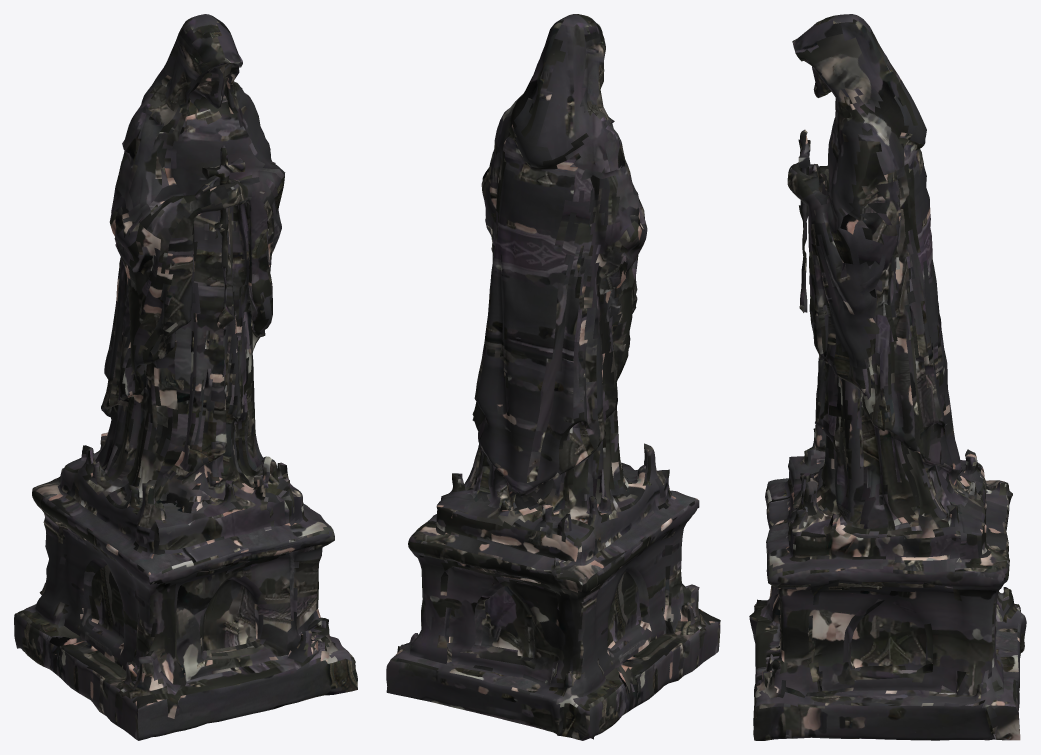
3 views of the same model, side by side, from view 1: azimuth 30°, elevation 25°; view 2: azimuth 150°, elevation 25°; view 3: azimuth 270°, elevation 25° (orthographic). The views are drawn at different scales.
Visible parts, largest first — view 1: tripo_node_01f2e0f1; view 2: tripo_node_01f2e0f1; view 3: tripo_node_01f2e0f1.
Boxes of the visible parts, box(x1,y1,x2,y2) form: tripo_node_01f2e0f1: box(14, 14, 357, 740); tripo_node_01f2e0f1: box(386, 14, 720, 740); tripo_node_01f2e0f1: box(749, 14, 1026, 740).
Size of the model in its own units: 0.3495 by 0.9984 by 0.3727.
